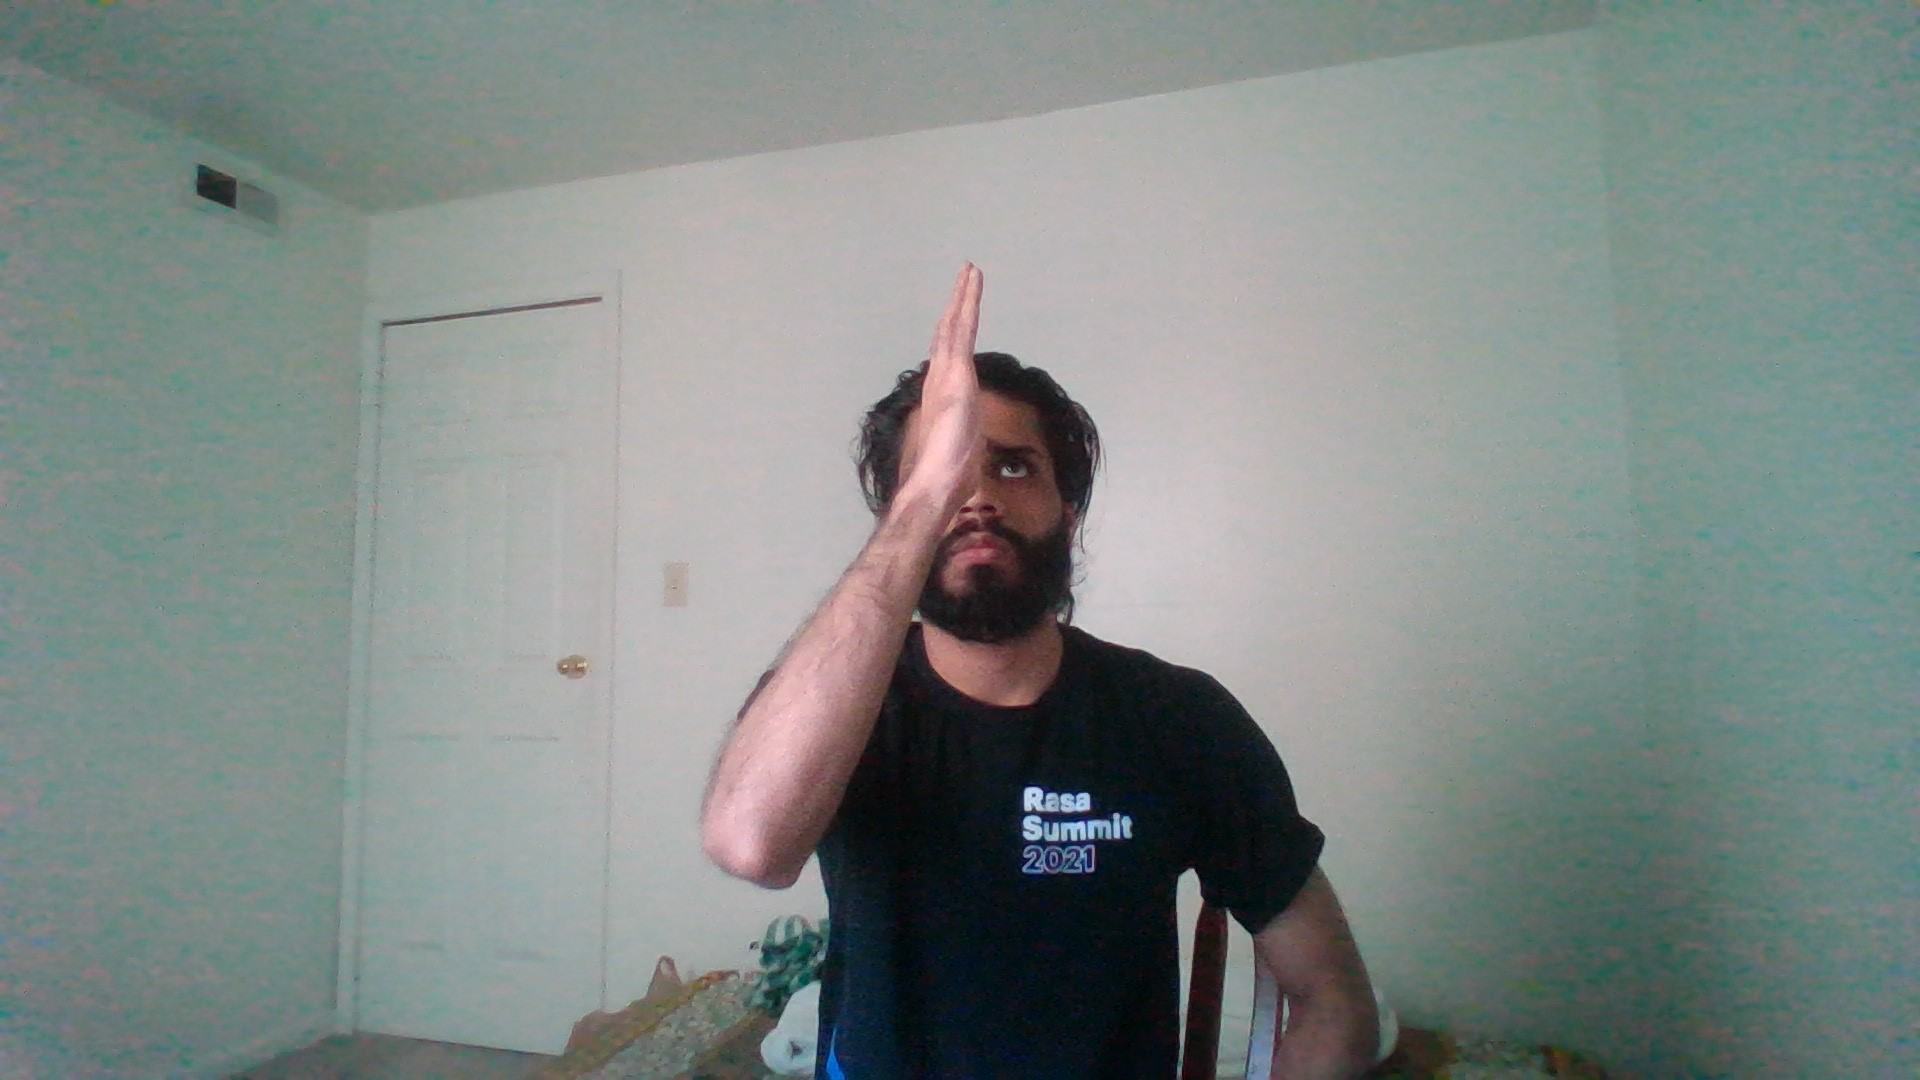Dad: (789, 255, 1127, 549)
